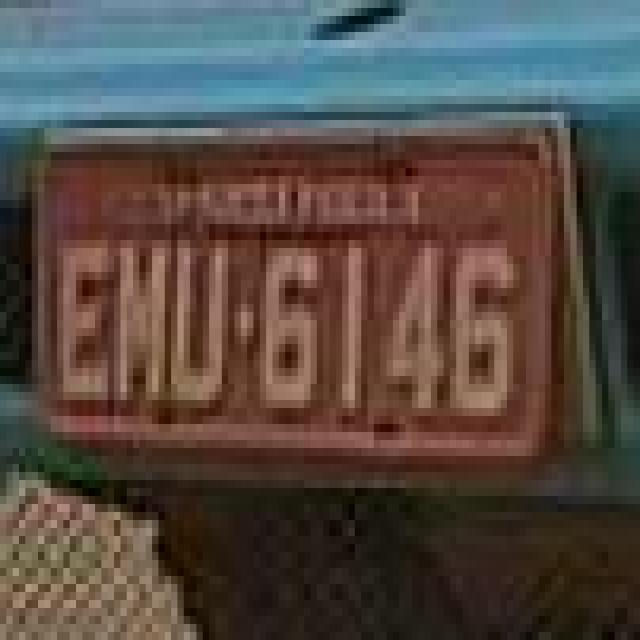1: (335, 228, 373, 426)
4: (389, 229, 438, 420)
6: (450, 228, 522, 430), (259, 223, 324, 426)
E: (56, 230, 112, 412)
M: (112, 219, 164, 416)
U: (165, 218, 232, 427)
